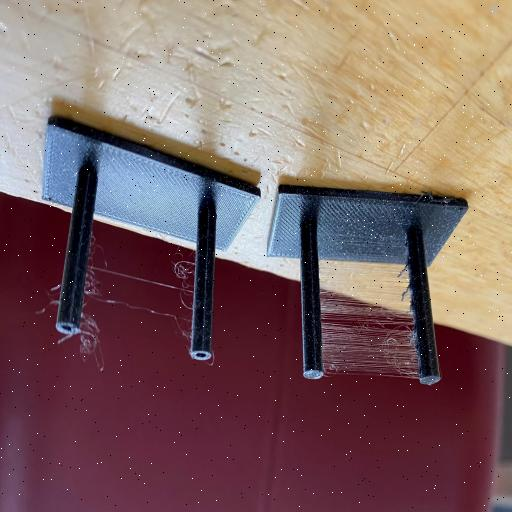stringing: (74, 223, 193, 382), (315, 242, 417, 378)
